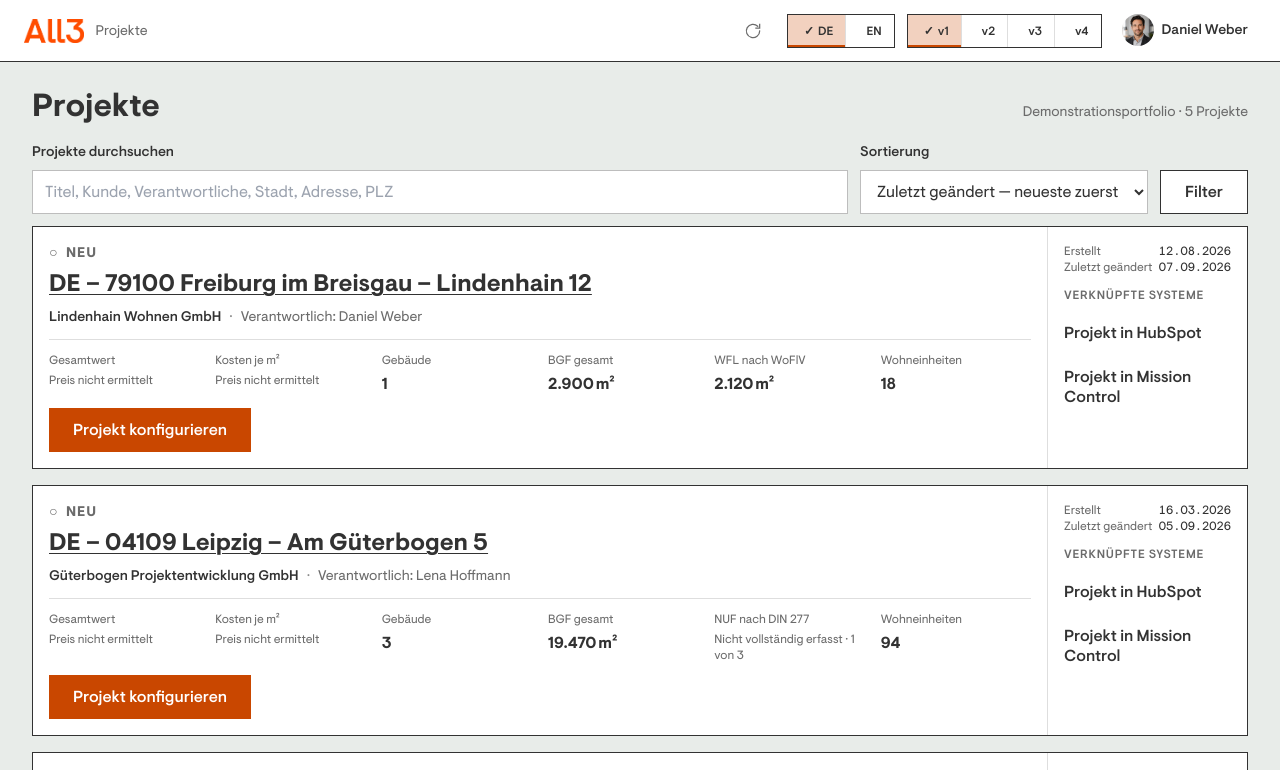
Test: Уровень Projekte › панель фильтров закрыта по умолчанию и содержит город, клиента, ответственного и статусы
expect the search field is shown: met, box [32, 170, 848, 214]
expect the dropdown labelled "Sortierung" is shown: met, box [860, 170, 1148, 214]
Click the button "Filter" at (1204, 192), box [1160, 170, 1248, 214]
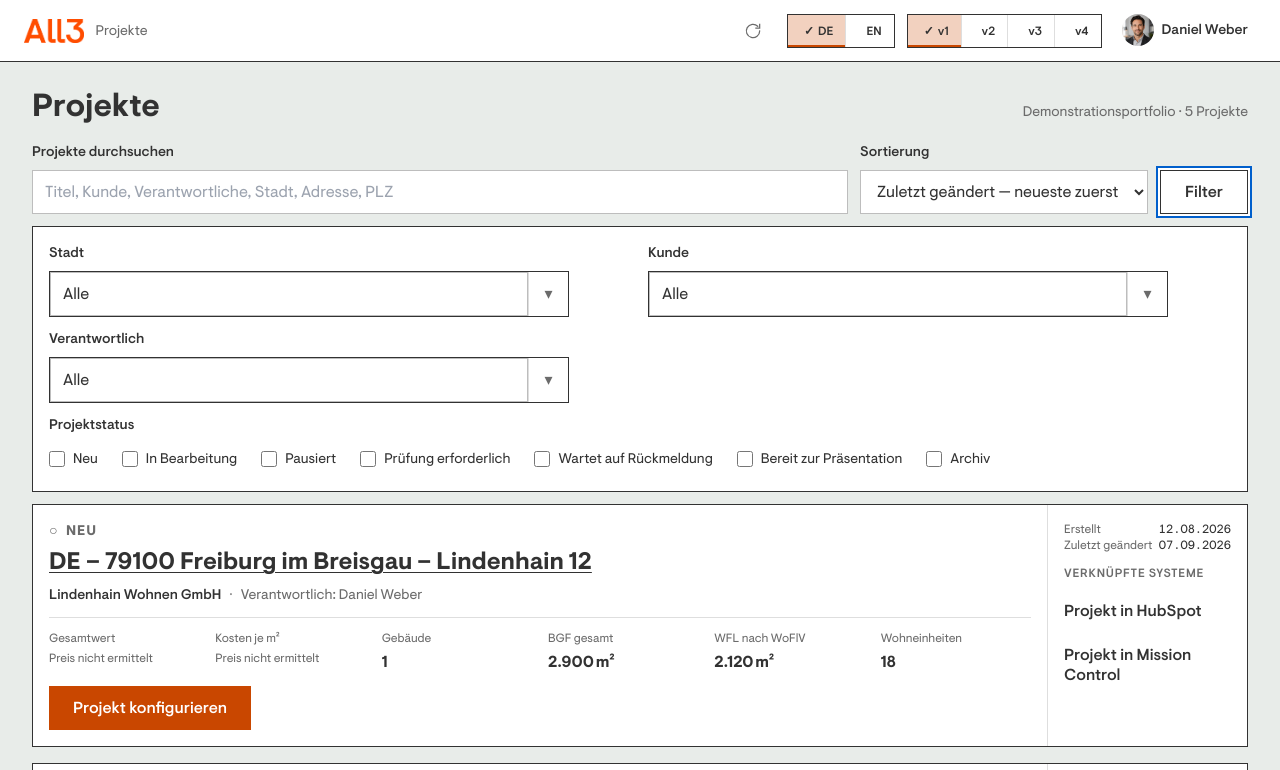
expect the number of checkboxes is 7: met
